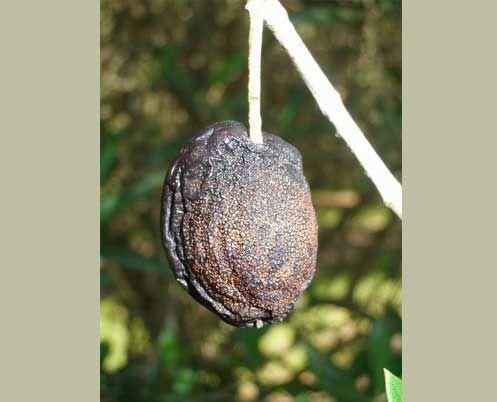Anthracnose: (160, 118, 319, 331)
